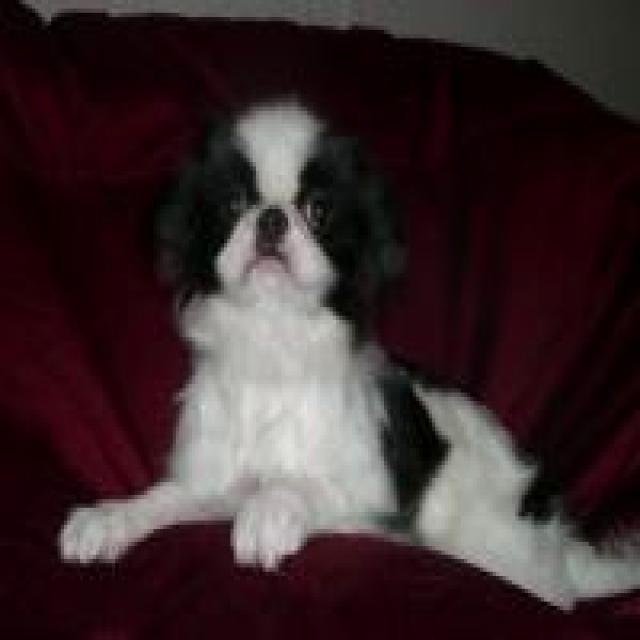husky: (61, 94, 637, 610)
